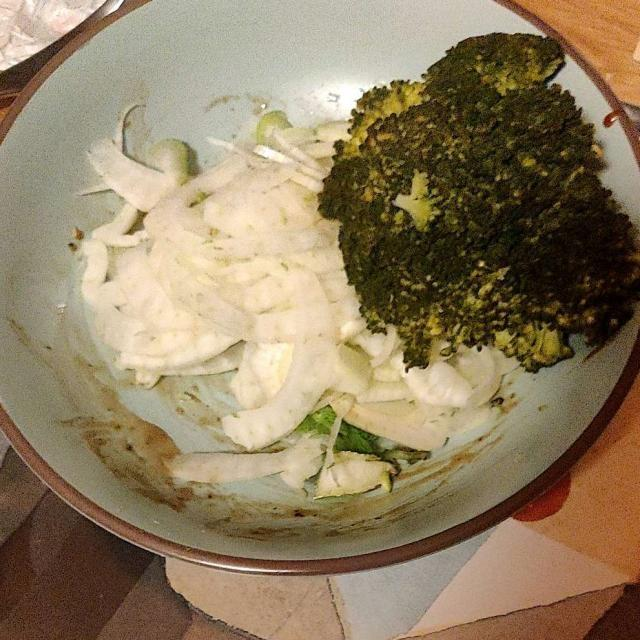broccoli: (330, 36, 617, 375)
cake: (92, 112, 518, 504)
